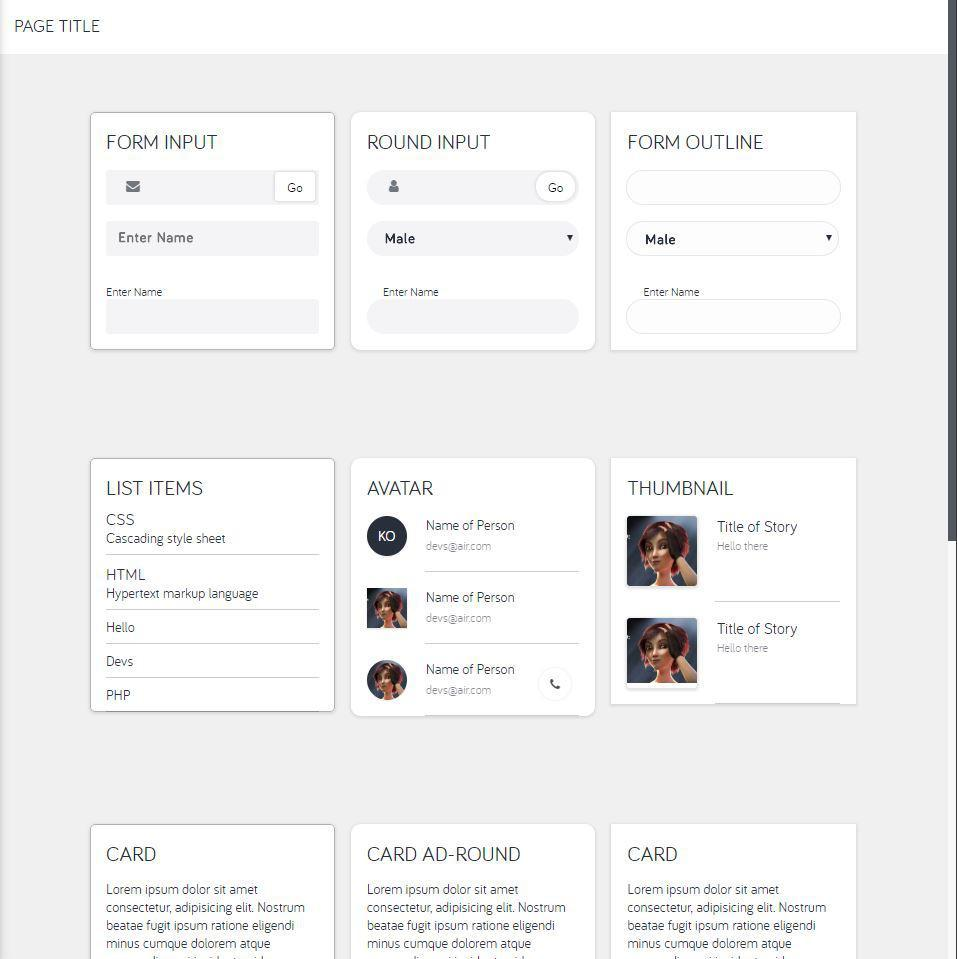button: (535, 172, 576, 206), (271, 172, 313, 202)
dropdown: (360, 219, 584, 262), (630, 221, 850, 262)
icon: (380, 169, 406, 198), (117, 174, 147, 195)
input: (625, 166, 844, 216), (364, 165, 586, 209), (101, 301, 324, 344), (627, 303, 843, 345), (103, 221, 329, 260), (104, 170, 324, 209), (370, 300, 580, 337)
label: (426, 654, 522, 701), (421, 511, 519, 556), (717, 516, 804, 565), (424, 585, 516, 626), (719, 615, 806, 656), (101, 285, 165, 302), (375, 286, 441, 301), (641, 285, 700, 299)
